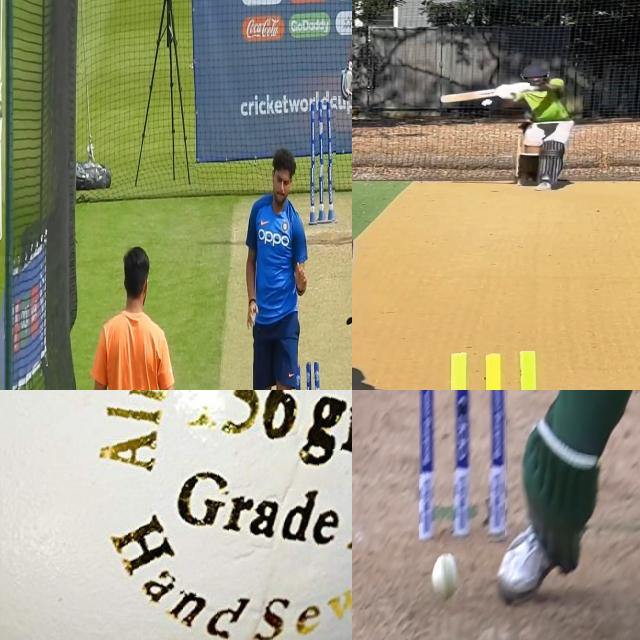Cricket ball: (0, 390, 352, 640), (431, 554, 460, 606), (480, 99, 494, 107)
Stumps: (418, 390, 507, 545), (438, 350, 557, 390), (310, 100, 336, 226)
